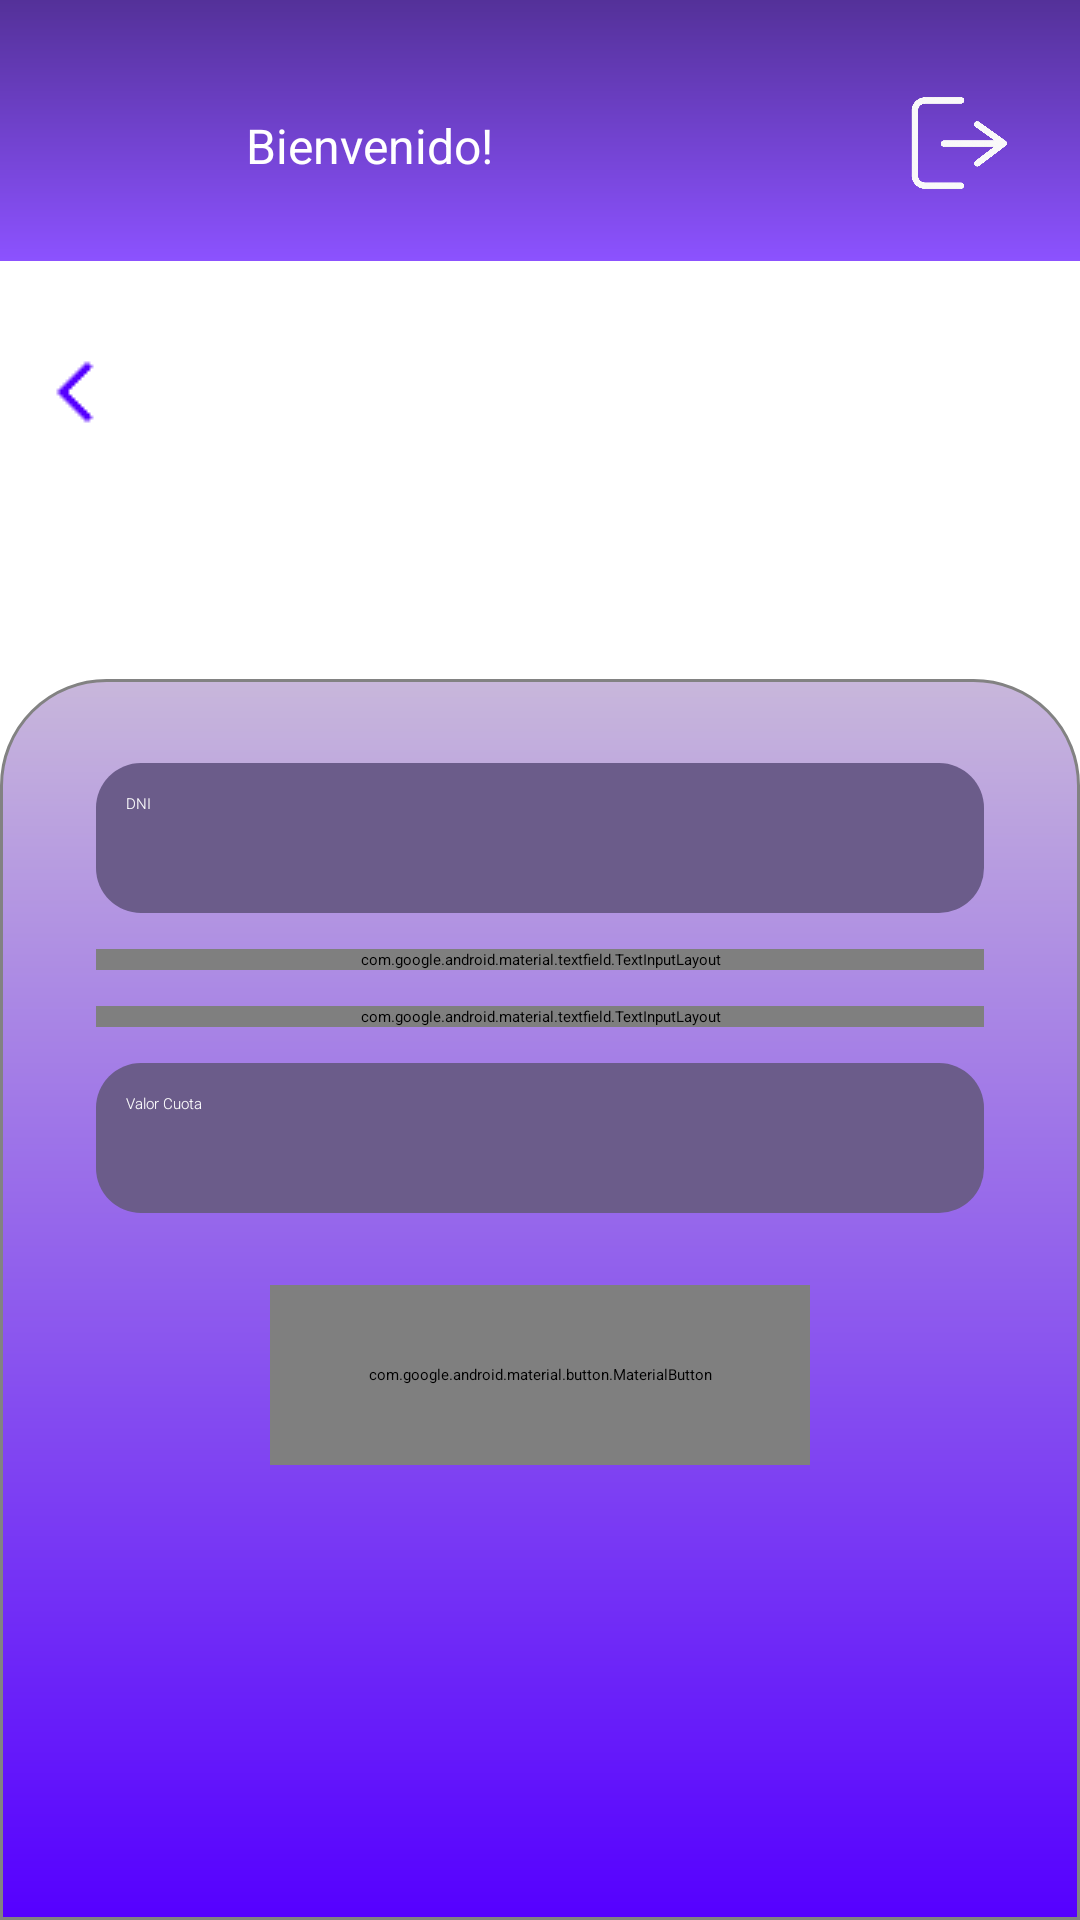

Point at icon controls on the screen. Image size 1080 x 1920, points as (x=x, y=y).
back: (x=75, y=392)
salir: (x=957, y=145)
